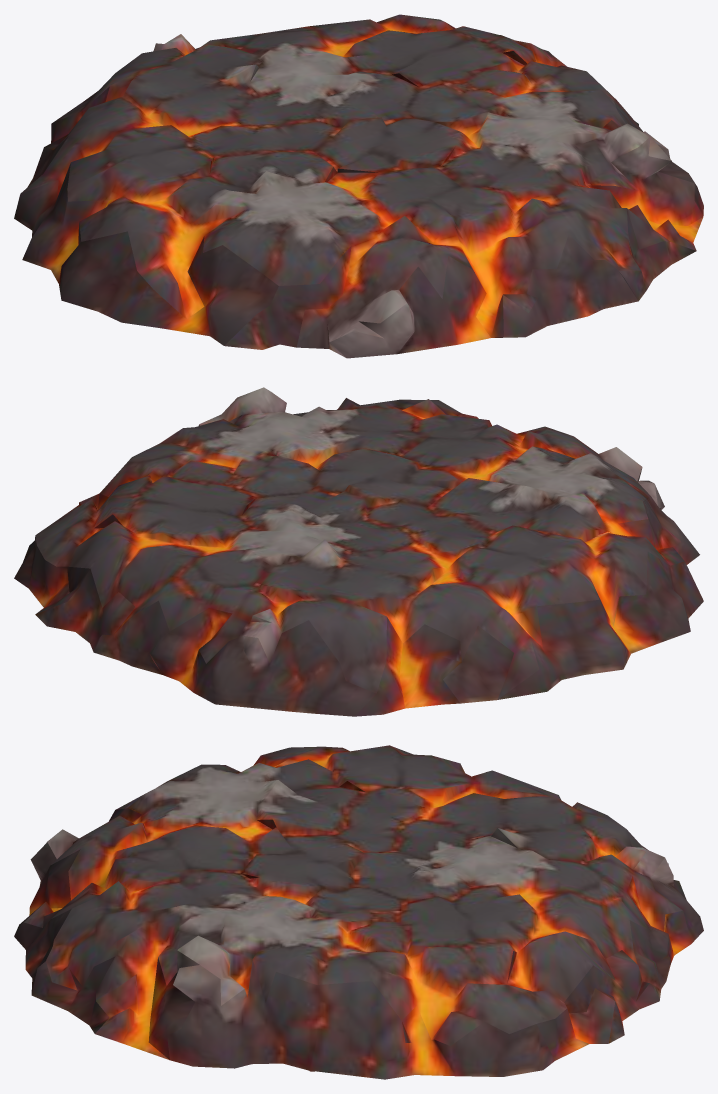
File: d_braises_butte.glb
3 renders of one model, top to bottom at view 1: azimuth 30°, elevation 25°; view 2: azimuth 150°, elevation 25°; view 3: azimuth 270°, elevation 25°, orthographic. The views are drawn at different scales.
Visible parts, largest first — view 1: geometry_0; view 2: geometry_0; view 3: geometry_0.
Part boxes in pixels (x1,y1,x2,y2): geometry_0: (14, 14, 703, 358); geometry_0: (14, 387, 703, 716); geometry_0: (14, 745, 703, 1079).
Bounding box in the file's own units: 1 × 0.1554 × 0.9904.
Materials: 1 (1 with a texture image).
